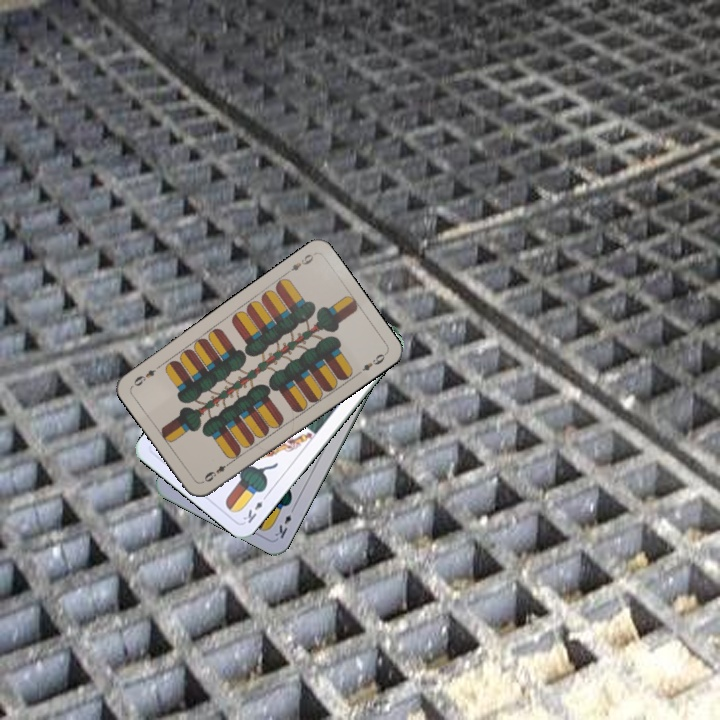E9: (198, 458, 234, 486), (281, 250, 317, 277)
EK: (239, 490, 270, 526), (271, 503, 297, 541)
